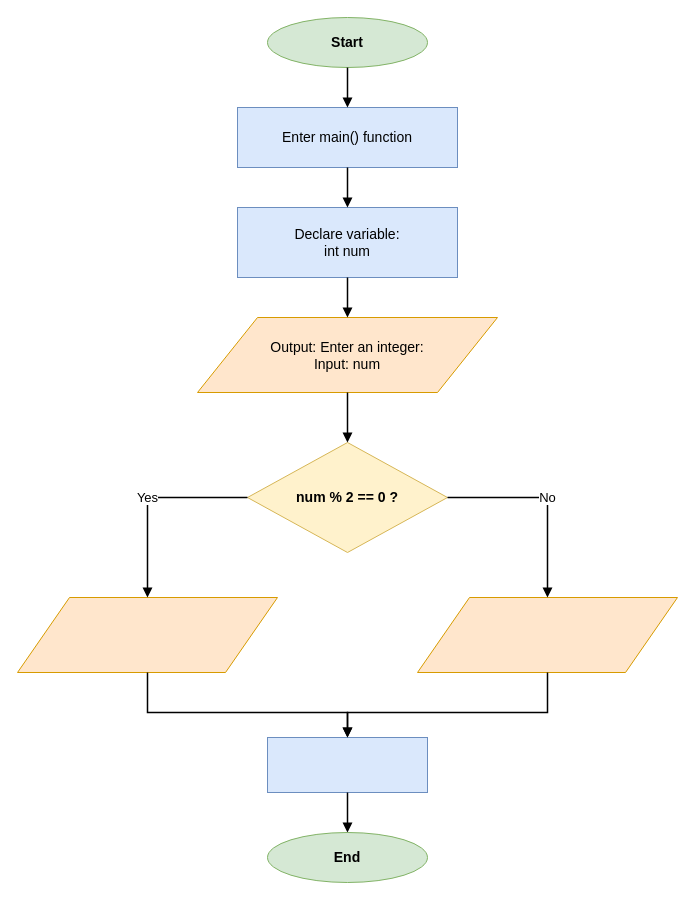
Some shapes in this 695 by 900 pixel diagram are drawn without their labels. Each missing label, with the box of its shape:
Output: num is even.: (16, 596, 278, 672)
Output: num is odd.: (416, 596, 678, 672)
Return 0: (266, 736, 428, 792)
